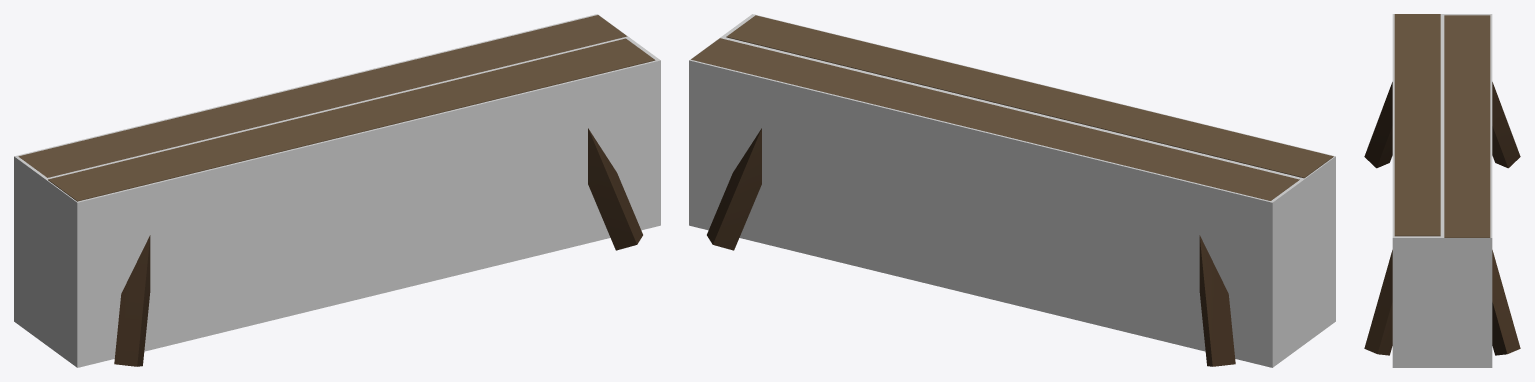
Rendered from bench.glb.
3 views of the same model, side by side, from view 1: azimuth 30°, elevation 25°; view 2: azimuth 150°, elevation 25°; view 3: azimuth 270°, elevation 25° (orthographic). The views are drawn at different scales.
Parts seen in each view (by area): view 1: COL_bench, bench; view 2: COL_bench, bench; view 3: bench, COL_bench.
Part boxes in pixels (x1,y1,x2,y2): COL_bench: (14, 14, 660, 367); bench: (18, 15, 655, 366); COL_bench: (689, 14, 1335, 367); bench: (691, 15, 1333, 366); bench: (1364, 14, 1520, 355); COL_bench: (1392, 14, 1492, 367).
Size of the model in its own units: 1.7 by 0.4734 by 0.5016.
